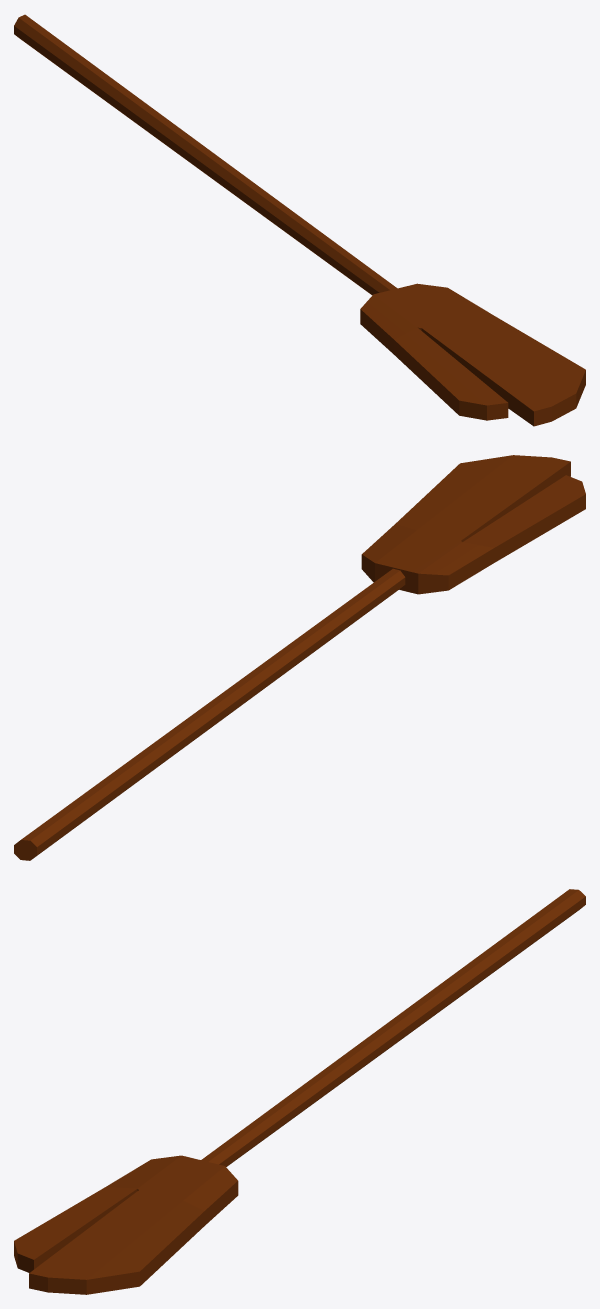
Rendered from Paddle_02.fbx.
3 renders of one model, top to bottom at view 1: azimuth 30°, elevation 25°; view 2: azimuth 150°, elevation 25°; view 3: azimuth 330°, elevation 25°, orthographic.
Visible parts, largest first — view 1: Paddle_02; view 2: Paddle_02; view 3: Paddle_02.
Boxes of the visible parts, x1,y1,x2,y2 form: Paddle_02: [14, 14, 585, 426]; Paddle_02: [14, 455, 585, 860]; Paddle_02: [14, 889, 585, 1294].
Size of the model in its own units: 52.25 by 8.26 by 380.
